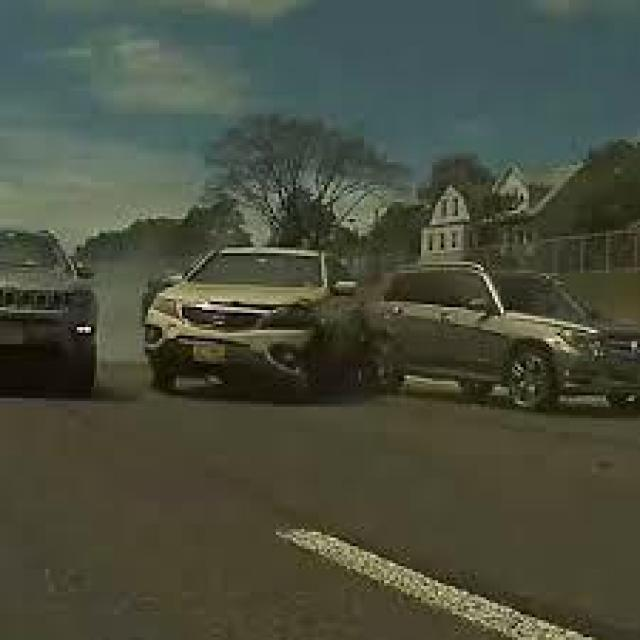accident: (128, 239, 640, 420)
